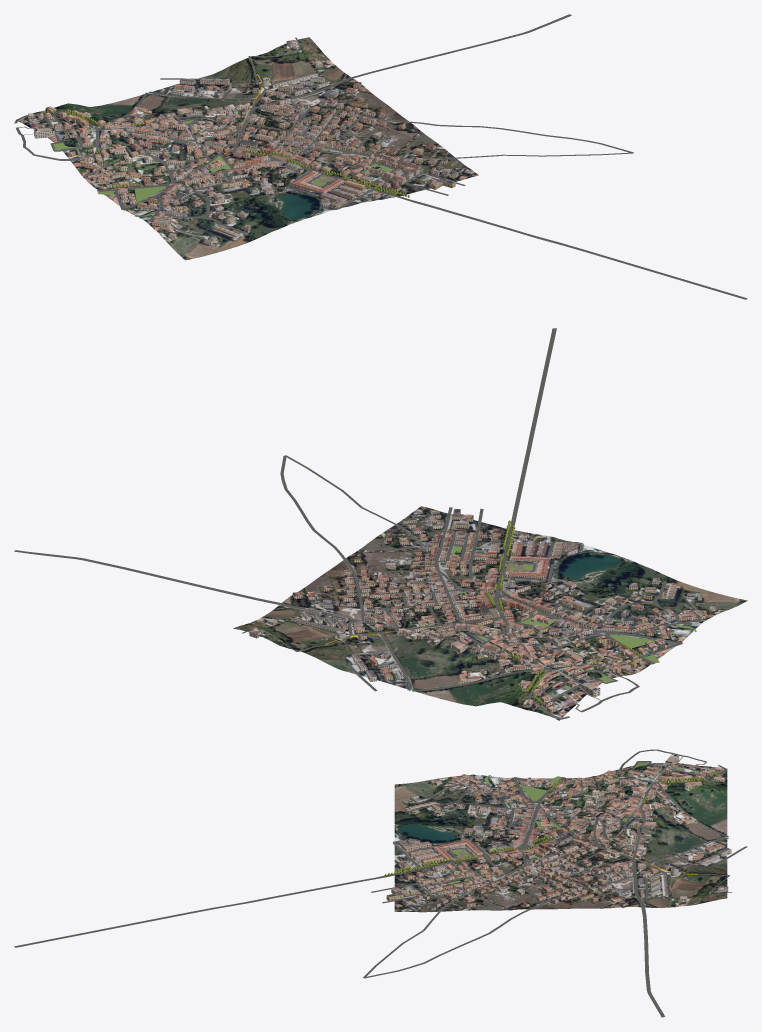
Rendered from centro_edit.glb.
The picture shows the model from 3 angles, top to bottom: view 1: azimuth 30°, elevation 25°; view 2: azimuth 150°, elevation 25°; view 3: azimuth 270°, elevation 25°; orthographic projection. The views are drawn at different scales.
Visible parts, largest first — view 1: Terreno, Via Avezzano, Via Massa d'Albe, Via Alba Fucens; view 2: Terreno, Via Avezzano, Via Massa d'Albe, Via Alba Fucens; view 3: Terreno, Via Avezzano, Via Massa d'Albe, Via Alba Fucens.
Boxes of the visible parts, x1,y1,x2,y2 form: Terreno: (16,37,478,260); Via Avezzano: (285,162,747,299); Via Massa d'Albe: (253,14,571,108); Via Alba Fucens: (290,100,633,153); Terreno: (233,506,747,720); Via Avezzano: (496,328,556,593); Via Massa d'Albe: (14,550,400,629); Via Alba Fucens: (280,455,364,621); Terreno: (394,763,727,912); Via Avezzano: (14,851,505,947); Via Massa d'Albe: (632,859,664,1017); Via Alba Fucens: (363,876,635,978).
Bounding box in the file's own units: 1313 × 65.54 × 1545.
58 materials, 39 textured.
